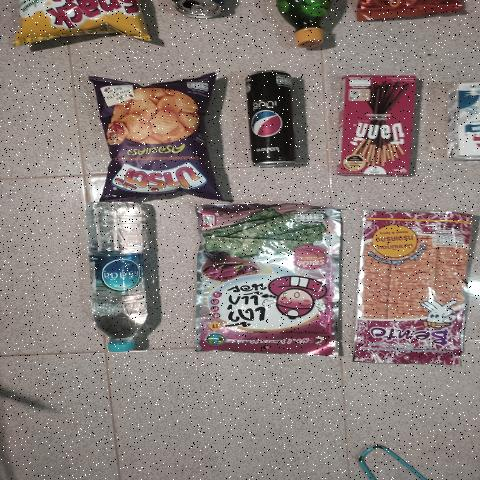bento_red: (364, 209, 466, 360)
crystal: (87, 200, 152, 358)
party_purple: (101, 82, 208, 194)
pepsi_black: (243, 64, 300, 172)
pokki: (342, 72, 412, 173)
taokaenoi: (196, 216, 338, 355)
